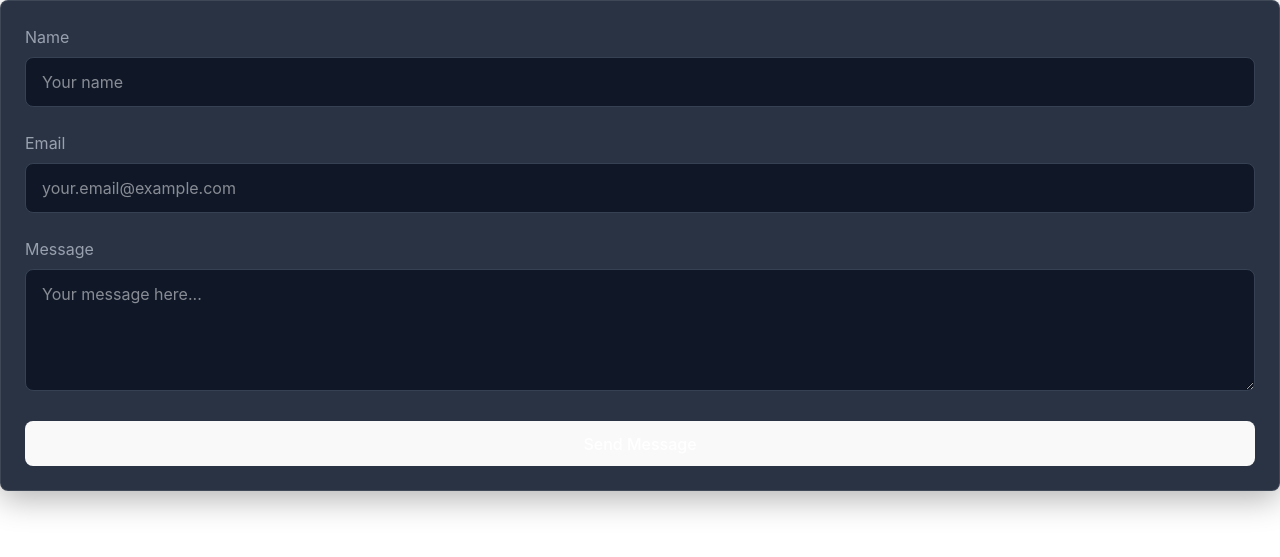
Test: ContactForm › Field Validation › should detect suspicious input patterns
This screenshot has width=1280, height=557.
Type "<script>alert('xss')</script>" into the field with placeholder "Your name" at (640, 82), box [25,57,1255,107]
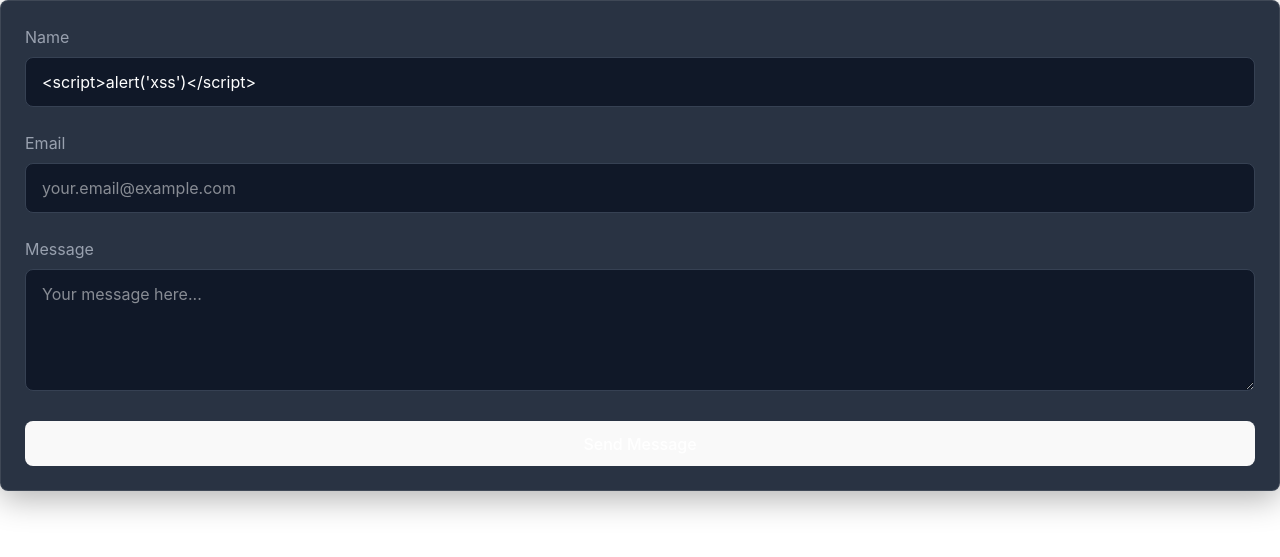
Leave the field with placeholder "Your name", box [25,57,1255,107]
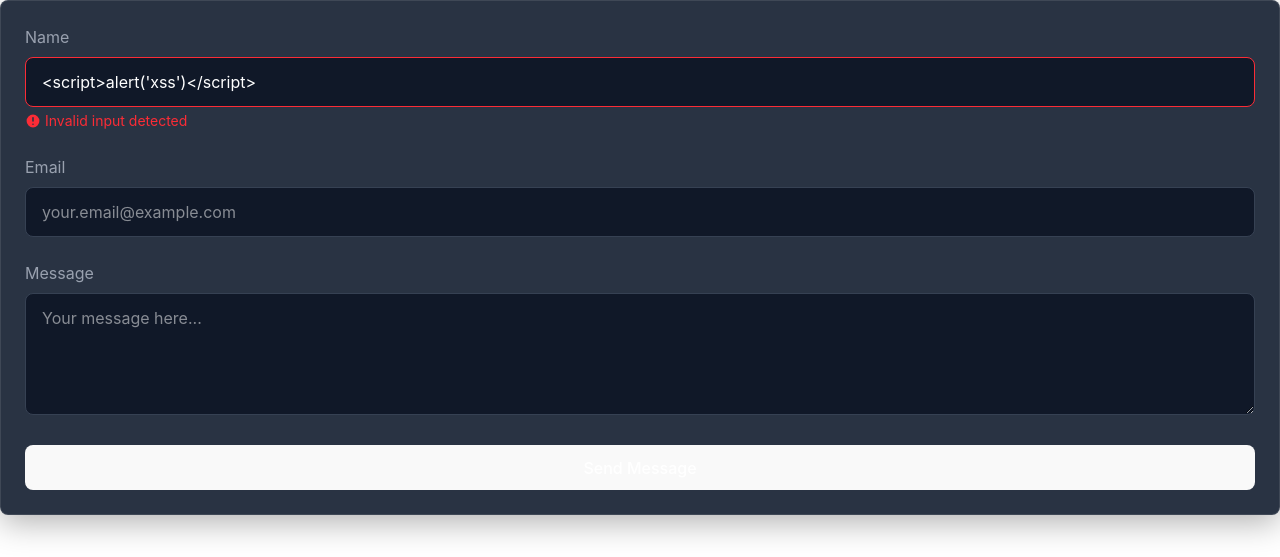
Result: the text "Invalid input detected" is shown at [25,112,187,129]
